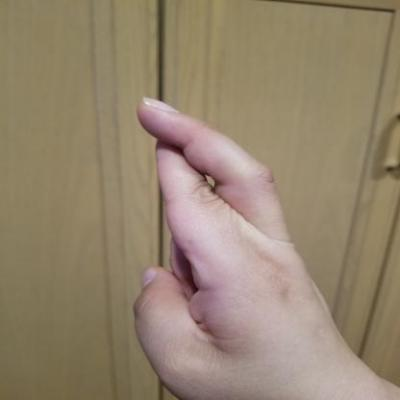hand: (127, 92, 371, 399)
